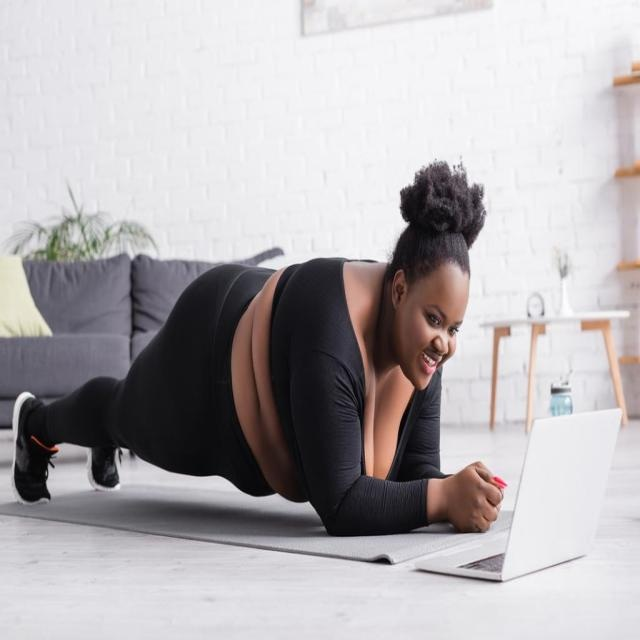plank: (6, 152, 512, 554)
